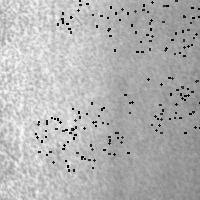pitted_surface: (95, 1, 200, 198), (2, 1, 99, 198), (72, 94, 131, 153), (35, 117, 95, 169), (92, 0, 151, 51), (147, 77, 200, 132), (147, 0, 200, 55), (57, 0, 113, 35)
